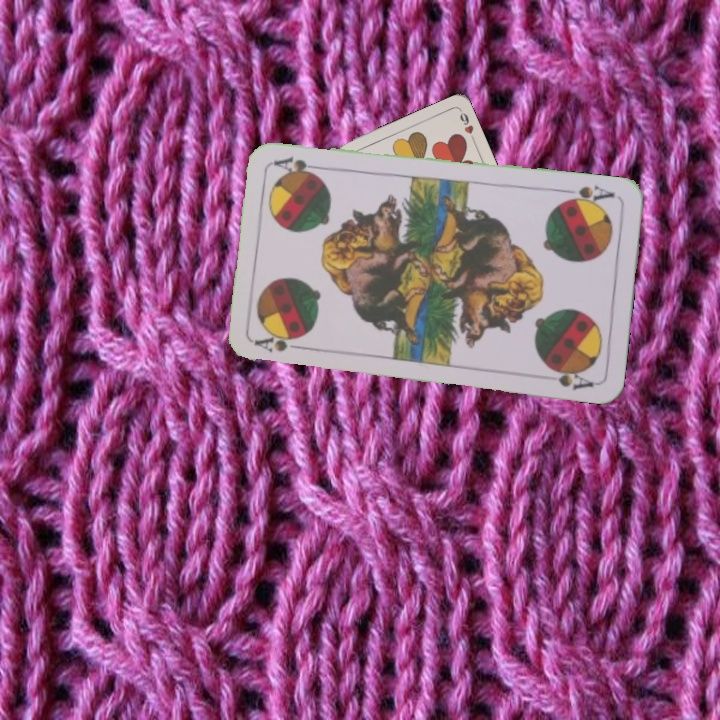SA: (559, 181, 616, 209), (251, 331, 310, 355)
